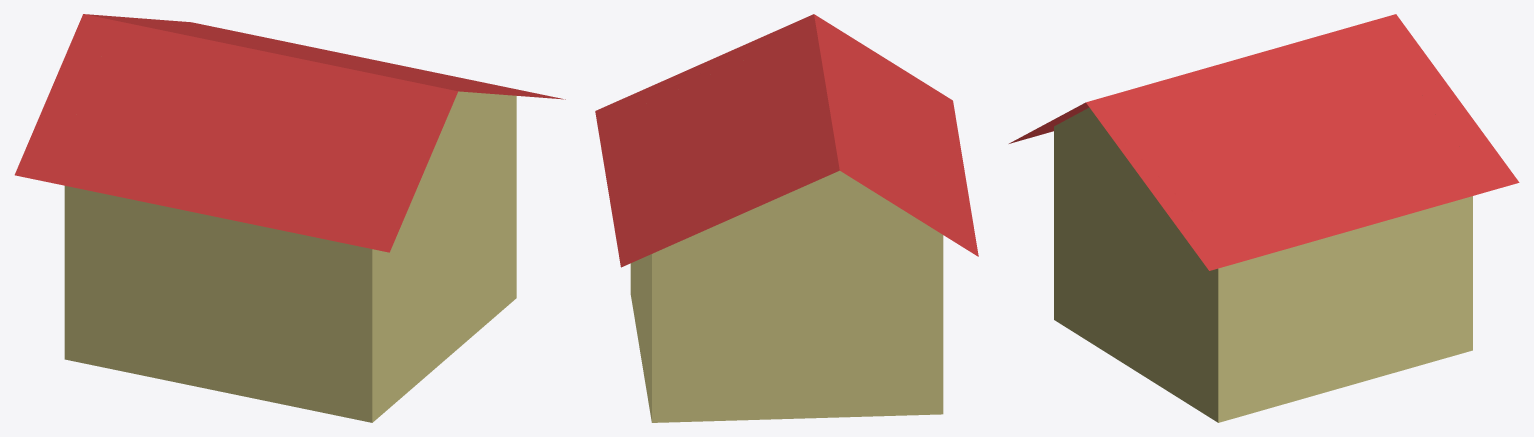
3 views of the same model, side by side, from view 1: azimuth 30°, elevation 25°; view 2: azimuth 150°, elevation 25°; view 3: azimuth 270°, elevation 25° (orthographic). The views are drawn at different scales.
Size of the model in its own units: 15.17 by 15.27 by 8.64.
